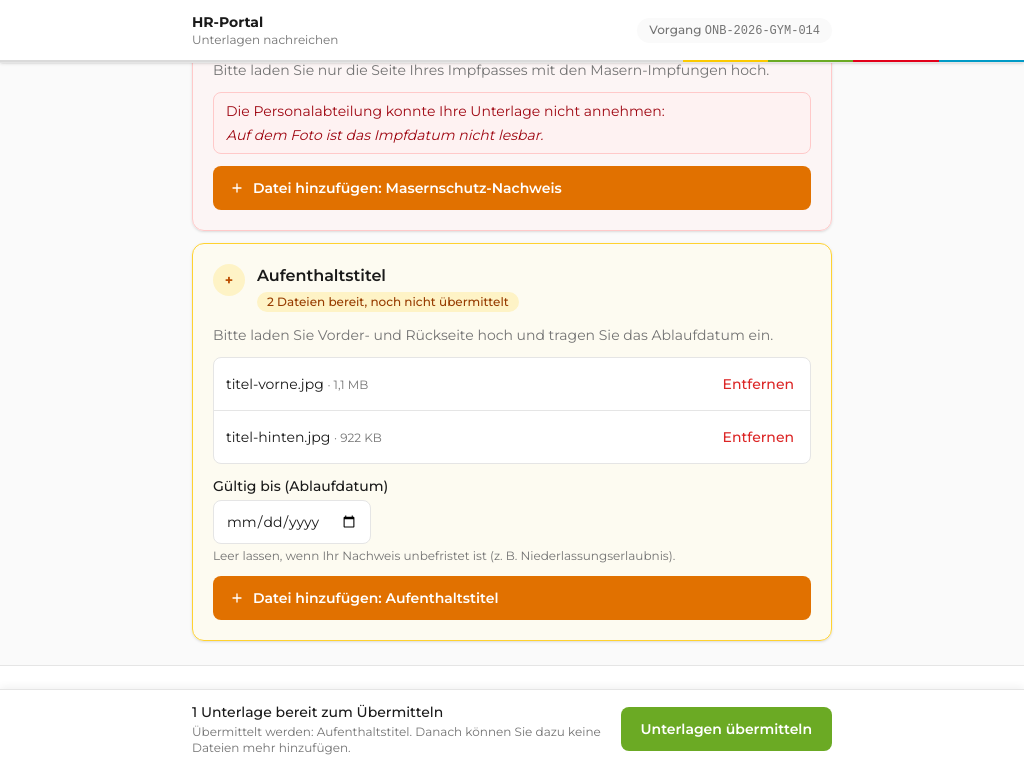
Entfernen › Knopf „<Dateiname> entfernen“ schickt DELETE und übernimmt den neuen Stand
The image size is (1024, 768).
(page scrolled)
Click the button with aria-label "titel-vorne.jpg entfernen" at (758,384), box [711, 362, 806, 406]
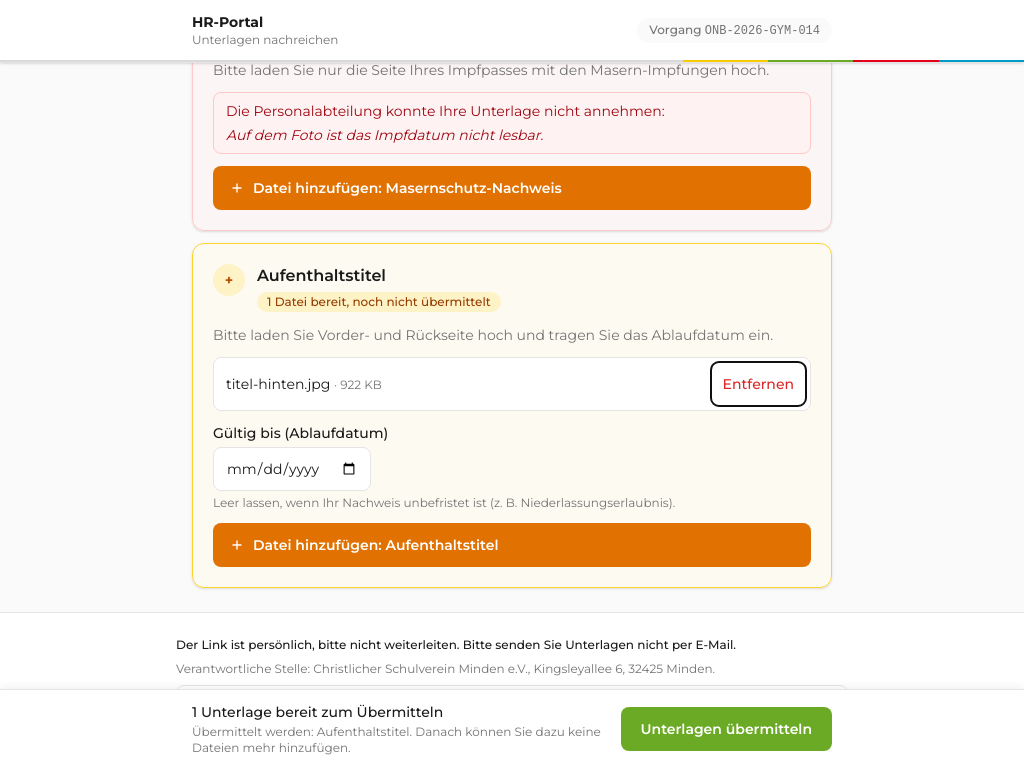
Expected: the element "Aufenthaltstitel" shows "titel-hinten.jpg", [226, 375, 330, 393]
Now the element "Aufenthaltstitel" no longer shows "titel-vorne.jpg"
Now the text "1 Datei bereit, noch nicht übermittelt" is shown, box [257, 292, 501, 312]
